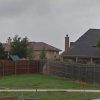Chimney: (60, 31, 77, 53)
